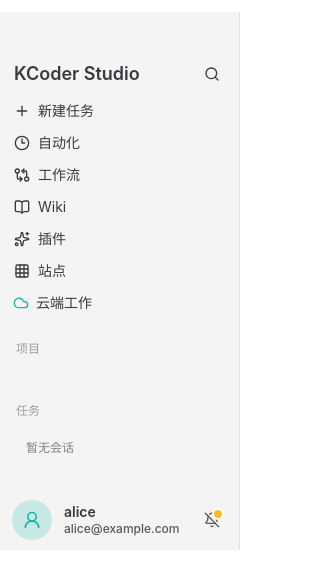
Test: DesktopSidebar navigation › does not render non-chat runtime workspace groups
Check: the text with test id "runtime-chat-empty" reads "暂无会话", box [26,440,74,455]
Click the button with test id "runtime-chat-section-toggle" at (120, 411), box [16,403,224,419]
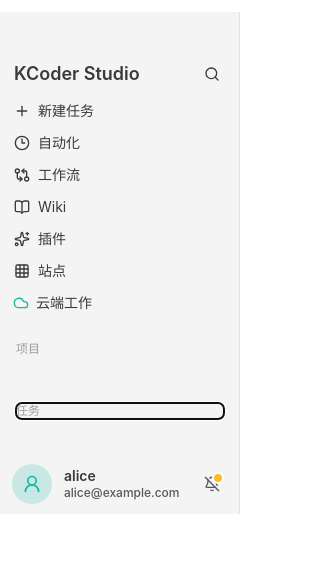
Check: the button with test id "runtime-chat-section-toggle" is collapsed, box [16,403,224,419]
Check: the text with test id "runtime-chat-empty" is gone
